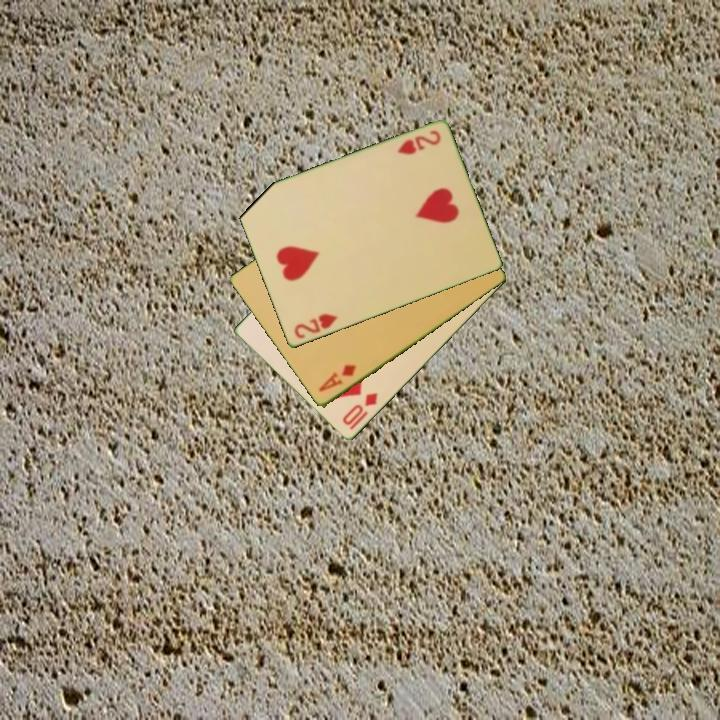10d: (339, 389, 381, 429)
2h: (290, 310, 341, 342), (393, 127, 443, 158)
Ad: (315, 361, 359, 395)
